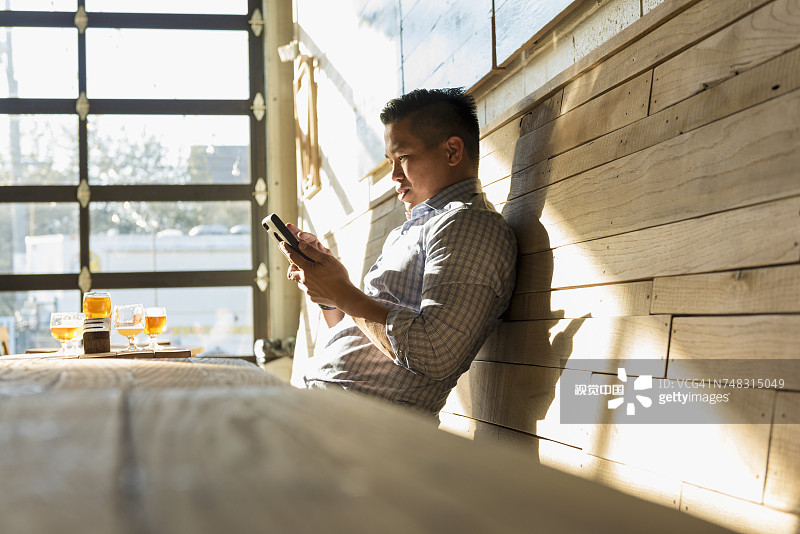reading: (252, 209, 361, 318)
